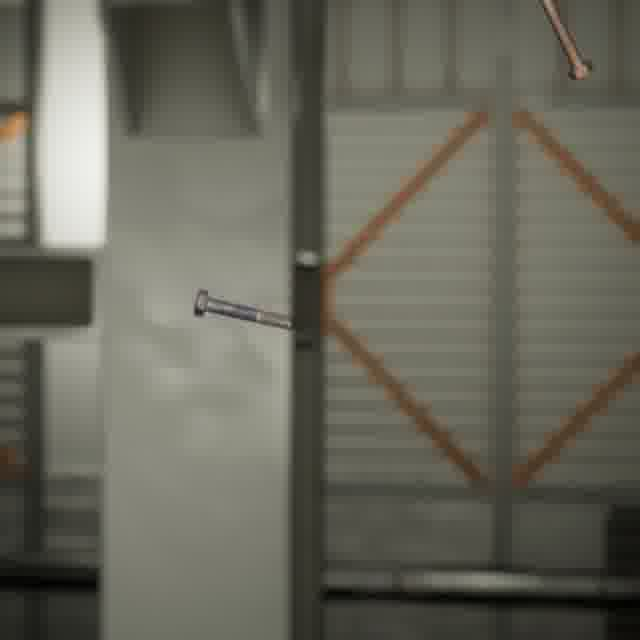bolt: (534, 0, 598, 84), (189, 284, 296, 333)
